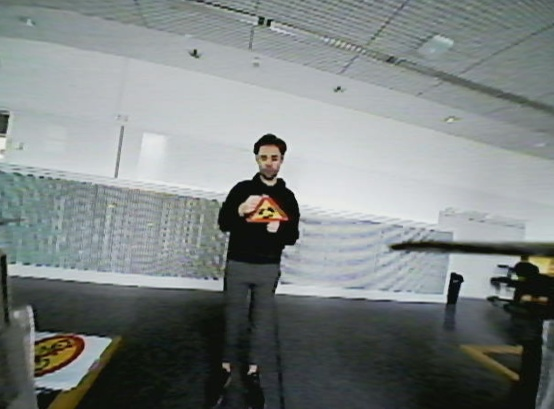roundabout_warning: (244, 194, 292, 226)
